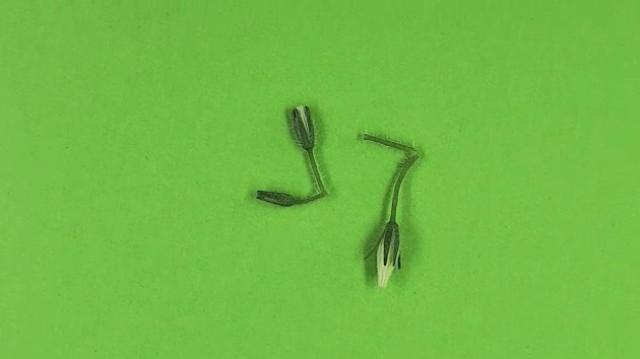Flower Bud: (371, 221, 401, 289), (290, 105, 315, 151), (255, 190, 304, 206)
